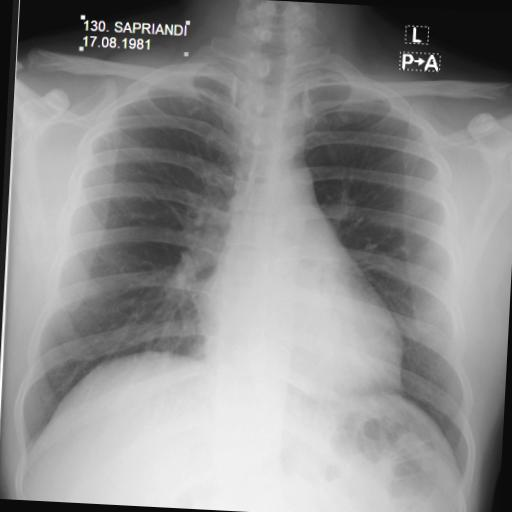kardiomegali: (8, 30, 506, 501)
